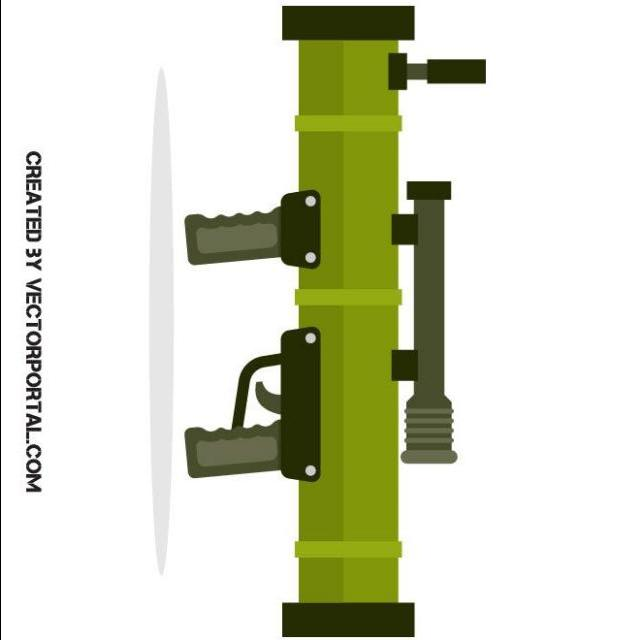rocket launcher: (162, 6, 491, 640)
